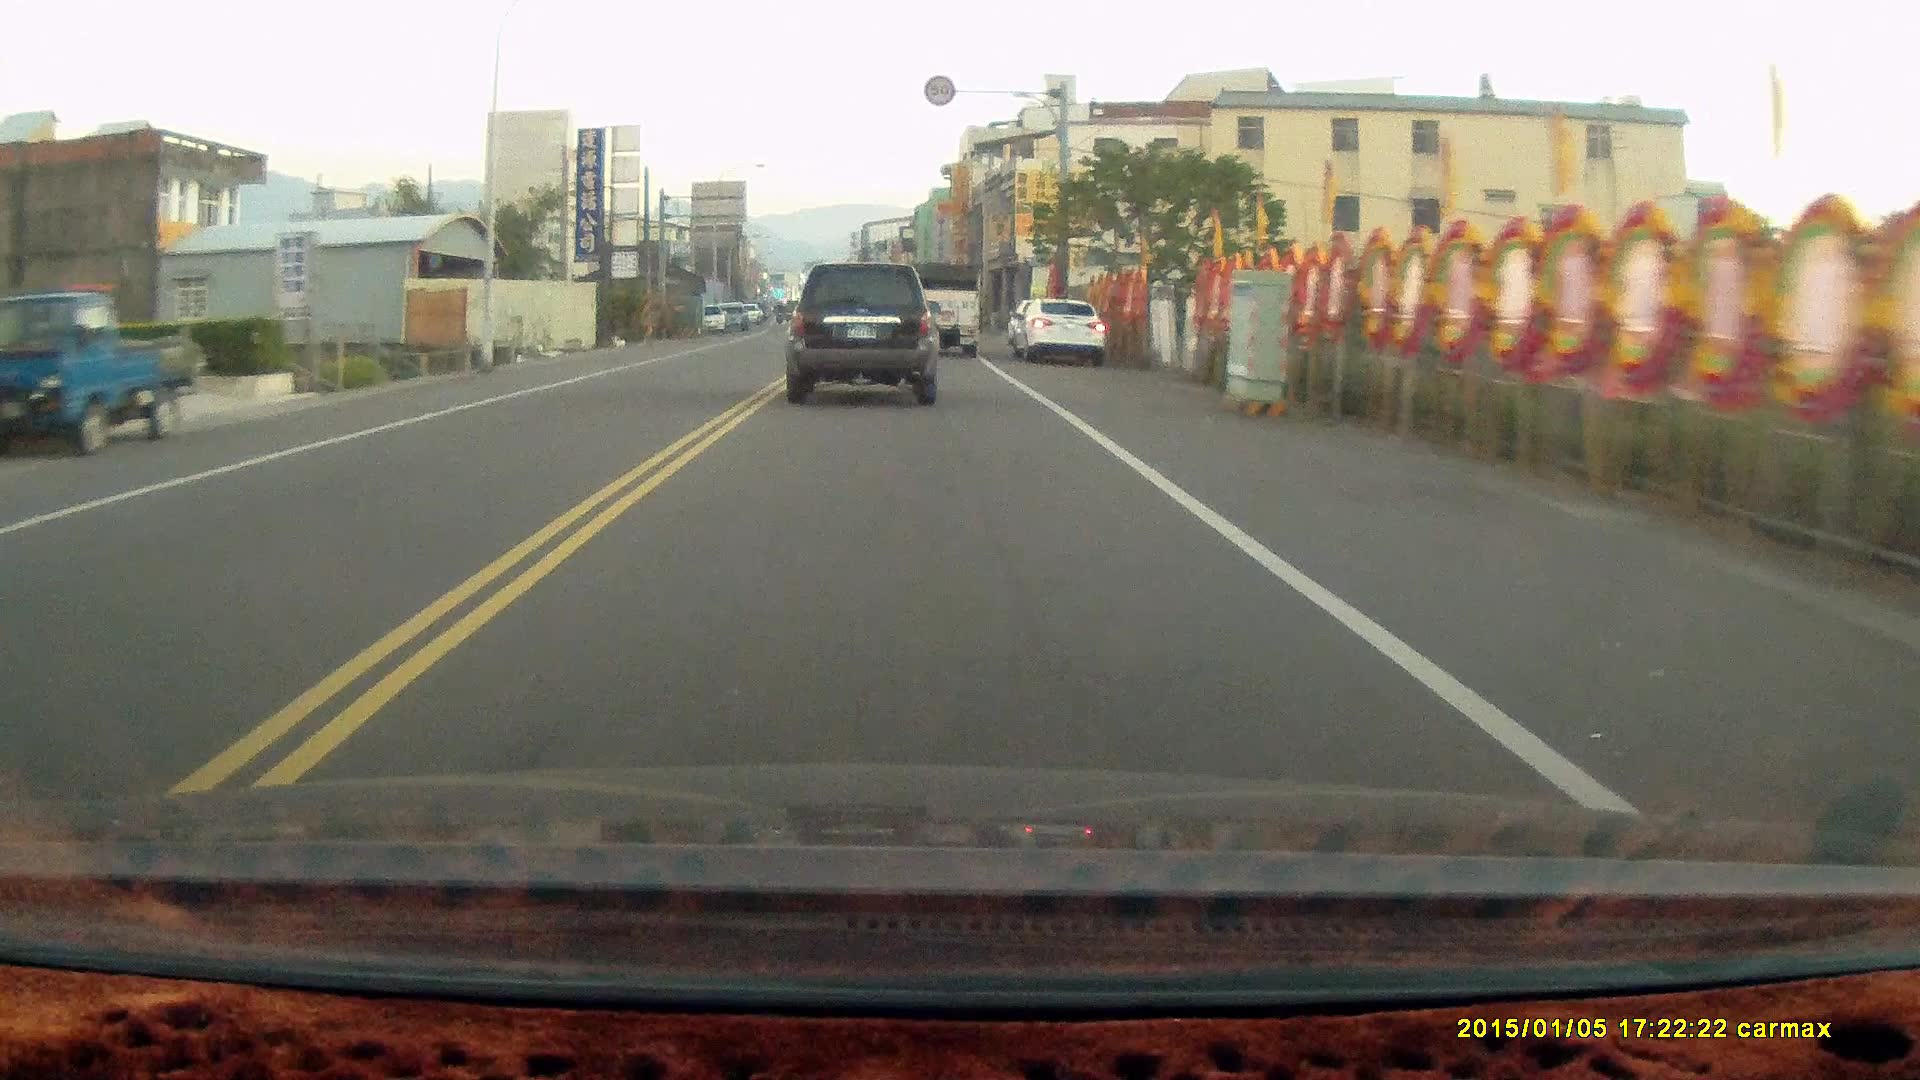vehicle: (3, 289, 200, 460), (787, 258, 938, 404), (910, 258, 985, 359), (1011, 301, 1110, 367)
